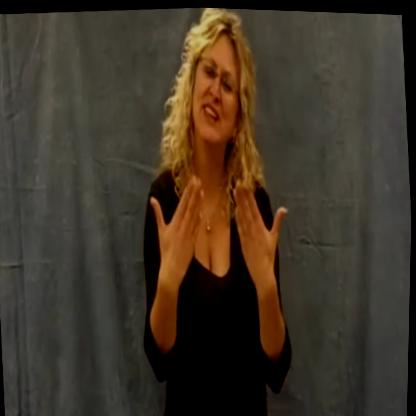ThankYou: (118, 4, 242, 374)
